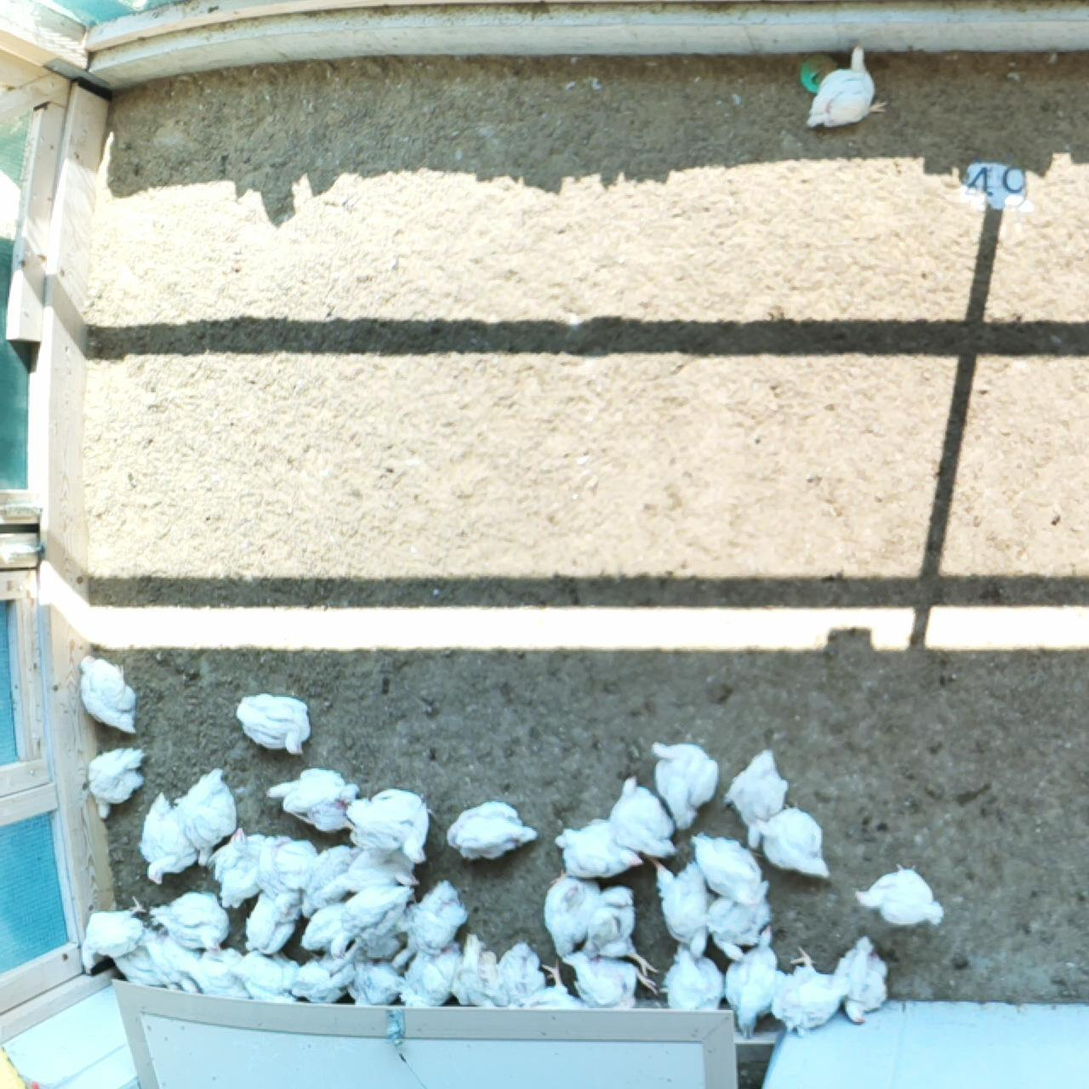chicken: (793, 36, 897, 142), (340, 782, 430, 867), (577, 884, 658, 974), (770, 943, 846, 1038), (720, 921, 782, 1037), (170, 765, 239, 869), (852, 858, 948, 932), (389, 879, 466, 970), (264, 762, 358, 835), (648, 735, 721, 828), (604, 772, 680, 861), (723, 747, 789, 849), (752, 800, 833, 882), (562, 949, 662, 1014), (445, 796, 540, 864), (143, 885, 229, 957), (550, 813, 641, 881), (330, 879, 412, 954), (686, 830, 770, 903), (650, 858, 712, 955), (78, 893, 150, 973), (706, 884, 777, 964), (75, 651, 140, 737), (136, 790, 196, 883), (544, 869, 606, 959), (833, 935, 894, 1024), (209, 824, 268, 912), (87, 740, 145, 826), (302, 839, 362, 921), (221, 947, 301, 1007), (237, 693, 314, 755), (241, 887, 306, 960), (660, 943, 726, 1013), (139, 925, 203, 997), (397, 938, 459, 1010), (191, 936, 252, 1007), (286, 950, 359, 1009), (340, 841, 421, 893), (512, 957, 587, 1011), (488, 939, 543, 1009), (250, 827, 310, 890), (450, 931, 499, 1008), (301, 899, 359, 959), (107, 943, 171, 993), (360, 907, 414, 965), (346, 955, 406, 1006)
